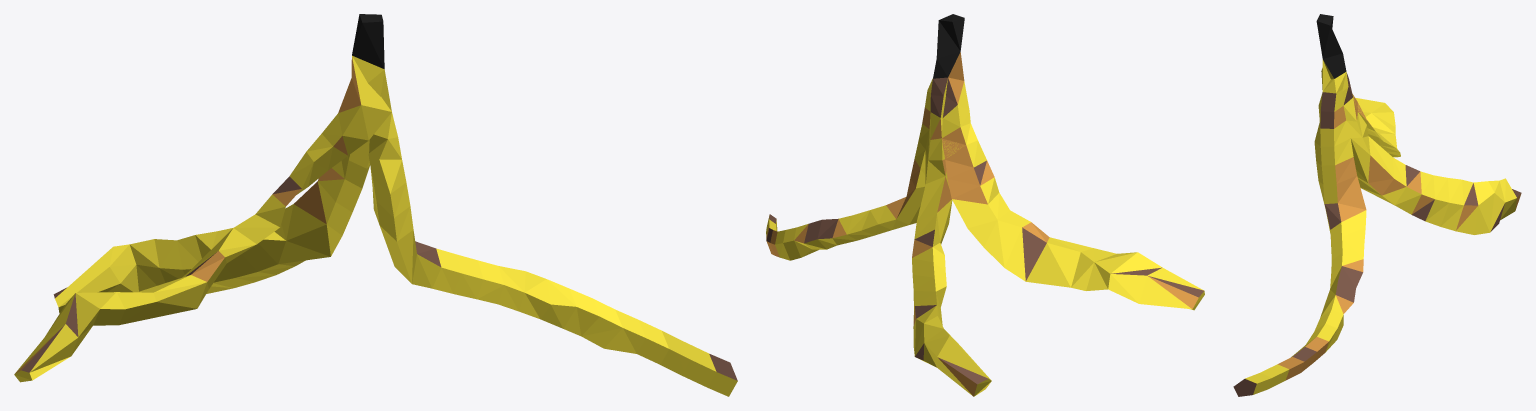
Rendered from trash9.fbx.
3 renders of one model, left to right at view 1: azimuth 30°, elevation 25°; view 2: azimuth 150°, elevation 25°; view 3: azimuth 270°, elevation 25°, orthographic. The views are drawn at different scales.
Visible parts, largest first — view 1: group1422156943; view 2: group1422156943; view 3: group1422156943.
Boxes of the visible parts, x1,y1,x2,y2 form: group1422156943: [14, 14, 737, 396]; group1422156943: [766, 14, 1204, 396]; group1422156943: [1233, 14, 1521, 396].
Bounding box in the file's own units: 68.03 × 41.29 × 38.56.
